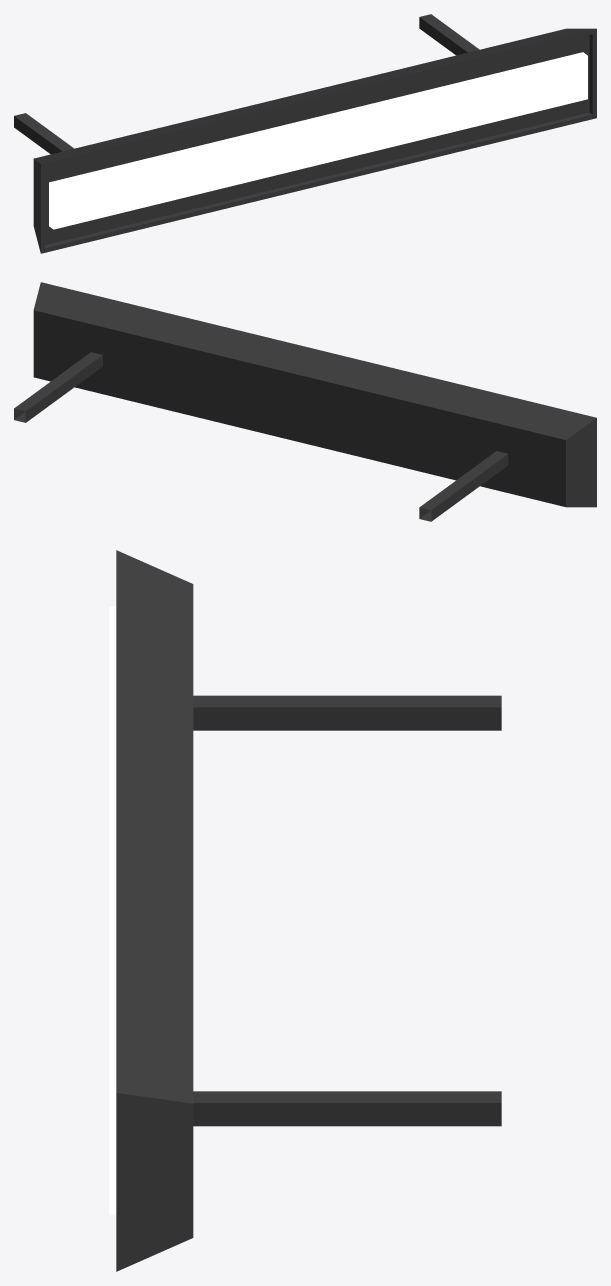
The model's file is Ceiling_Lamp_3.glb.
The picture shows the model from 3 angles, top to bottom: view 1: azimuth 30°, elevation 25°; view 2: azimuth 150°, elevation 25°; view 3: azimuth 270°, elevation 25°; orthographic projection. The views are drawn at different scales.
Visible parts, largest first — view 1: Ceiling Lamp 3; view 2: Ceiling Lamp 3; view 3: Ceiling Lamp 3.
Boxes of the visible parts, x1,y1,x2,y2 form: Ceiling Lamp 3: [14, 14, 596, 253]; Ceiling Lamp 3: [14, 282, 596, 521]; Ceiling Lamp 3: [109, 550, 501, 1271].
Bounding box in the file's own units: 1.08 × 0.1657 × 0.3296.
Materials: 2 (1 with a texture image).
